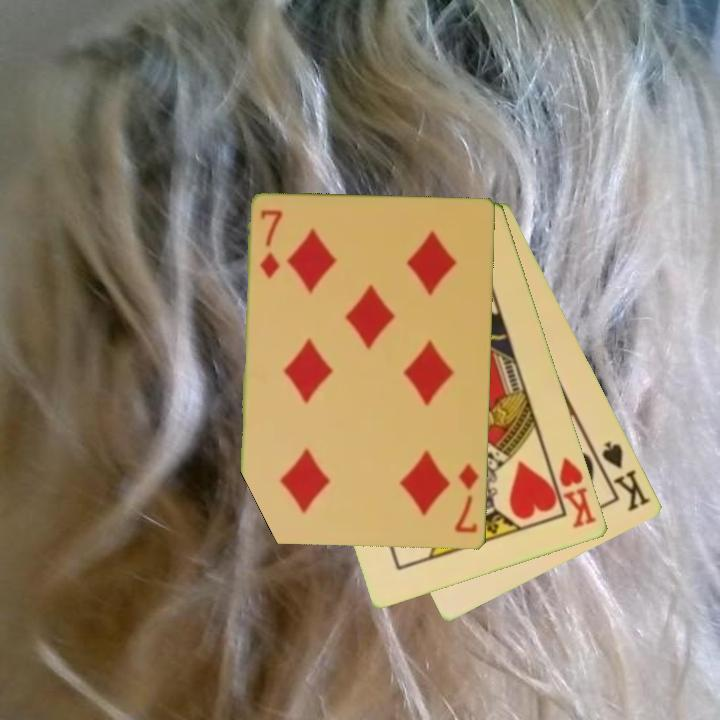7d: (452, 460, 482, 536), (257, 206, 286, 282)
Kh: (545, 454, 600, 532)
Ks: (589, 438, 654, 515)
